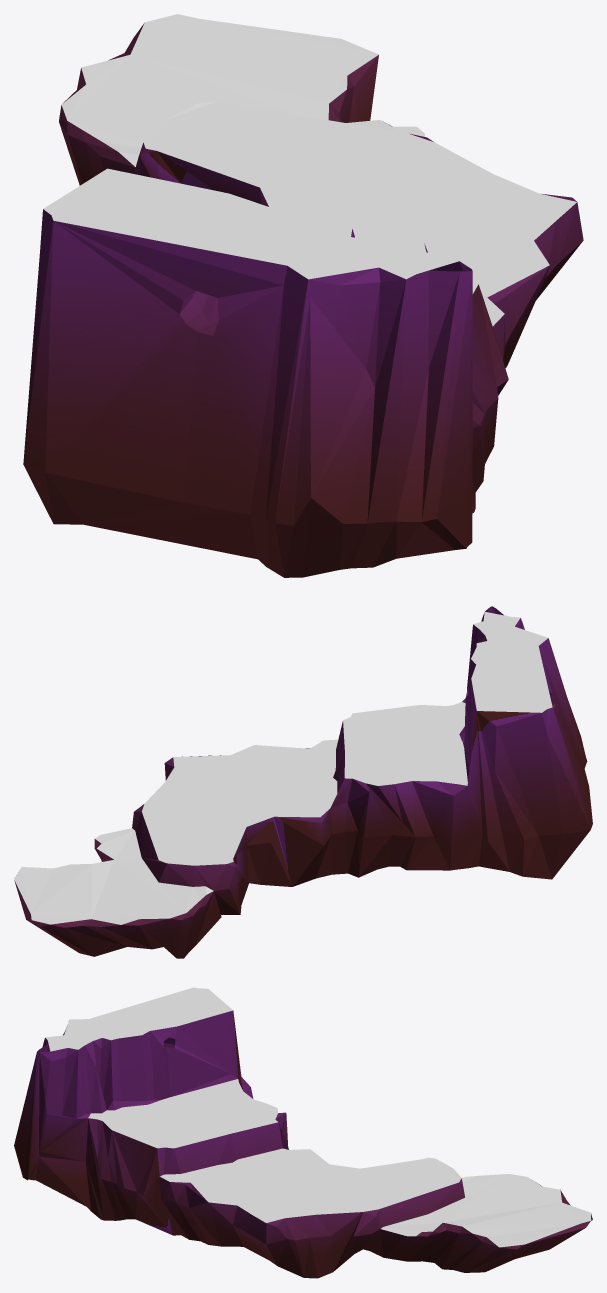
The model's file is MOD_Level4_versie4.fbx.
The picture shows the model from 3 angles, top to bottom: view 1: azimuth 30°, elevation 25°; view 2: azimuth 150°, elevation 25°; view 3: azimuth 270°, elevation 25°; orthographic projection. The views are drawn at different scales.
Parts seen in each view (by area): view 1: MOD_Level4_Side, MOD_Level4_FLOOR; view 2: MOD_Level4_Side, MOD_Level4_FLOOR; view 3: MOD_Level4_Side, MOD_Level4_FLOOR.
Part boxes in pixels (left/top/right/bottom): MOD_Level4_Side: left=23, top=23, right=583, bottom=577; MOD_Level4_FLOOR: left=43, top=14, right=576, bottom=326; MOD_Level4_Side: left=14, top=606, right=592, bottom=958; MOD_Level4_FLOOR: left=14, top=612, right=552, bottom=924; MOD_Level4_Side: left=14, top=1010, right=592, bottom=1278; MOD_Level4_FLOOR: left=45, top=987, right=591, bottom=1247.
Bounding box in the file's own units: 14.69 × 6.27 × 21.66.
